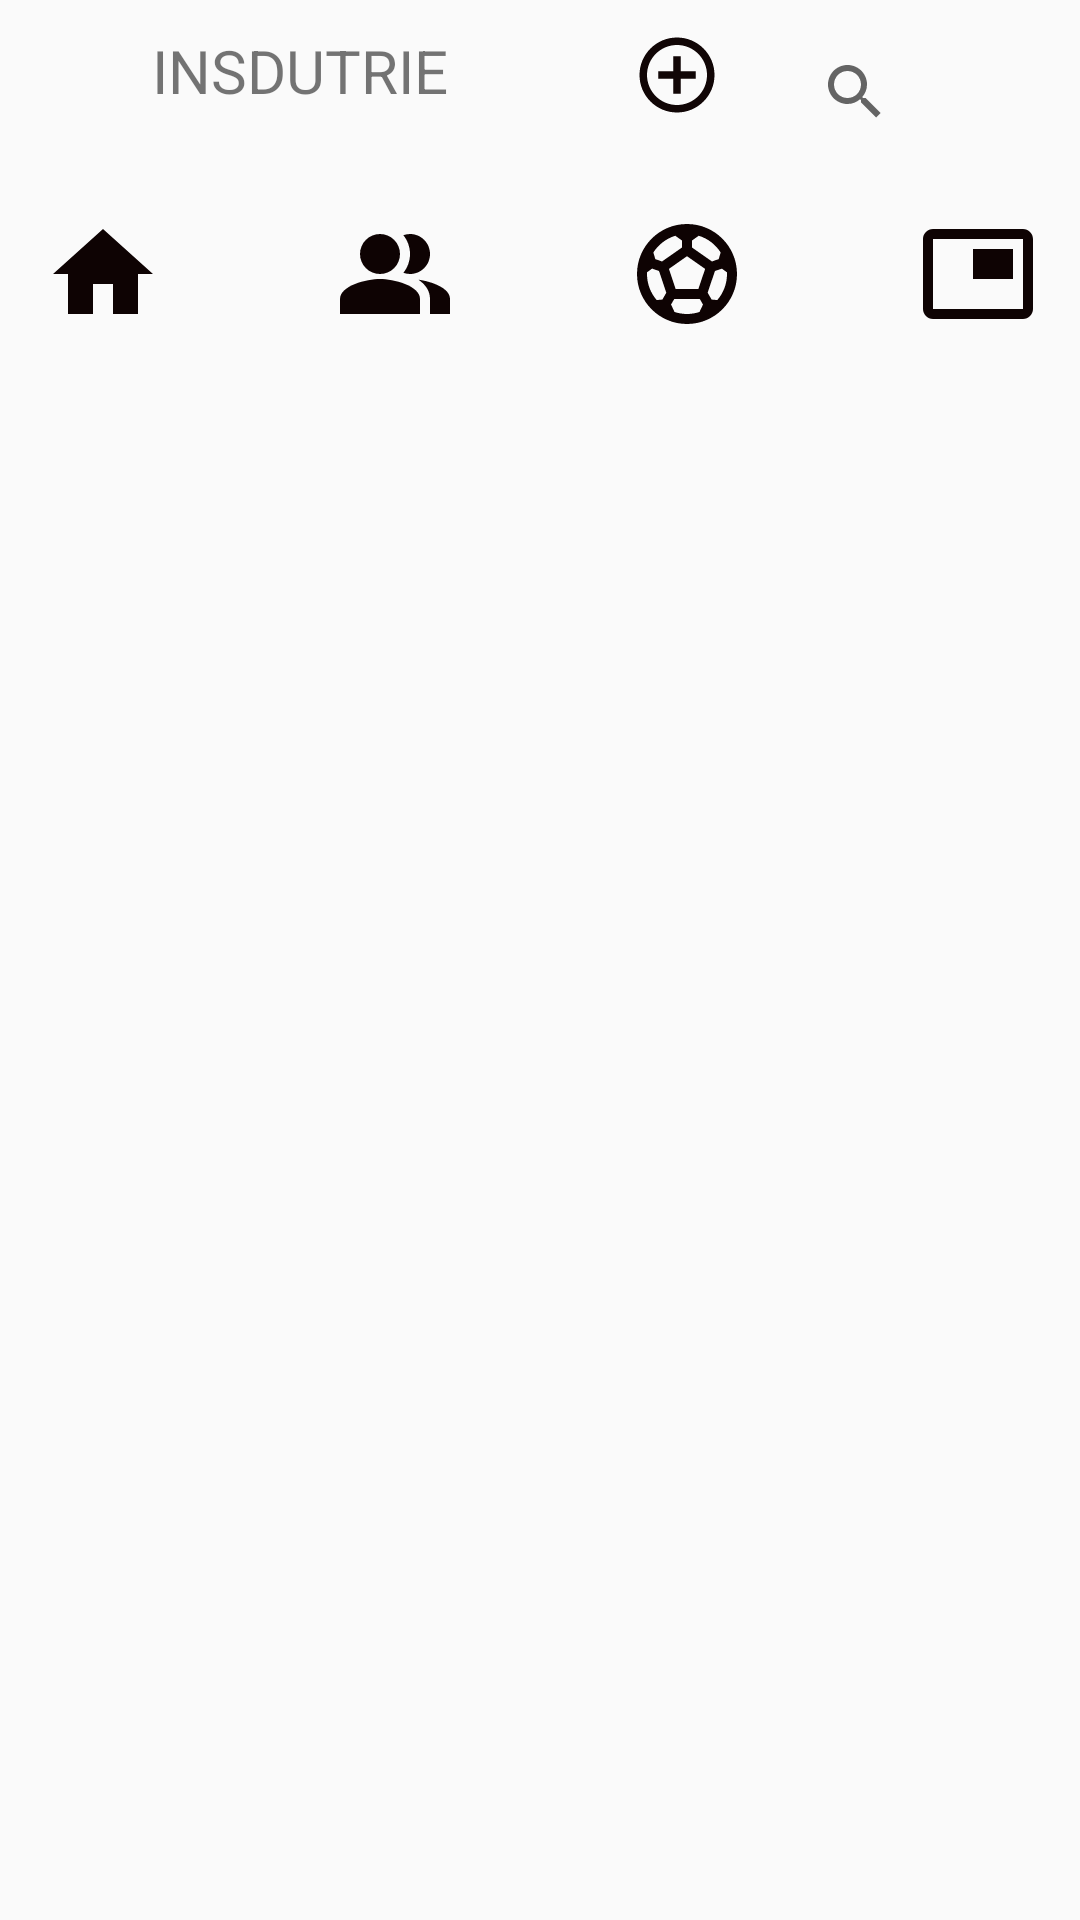

Icon bounding boxes for this 1080px x 1920px phone screenshot, format (x1, y1, x2, y2):
add circle: (639, 37, 715, 113)
home: (53, 229, 153, 314)
people: (340, 234, 450, 314)
picture in: (923, 229, 1033, 319)
sports soccer: (637, 224, 737, 324)
